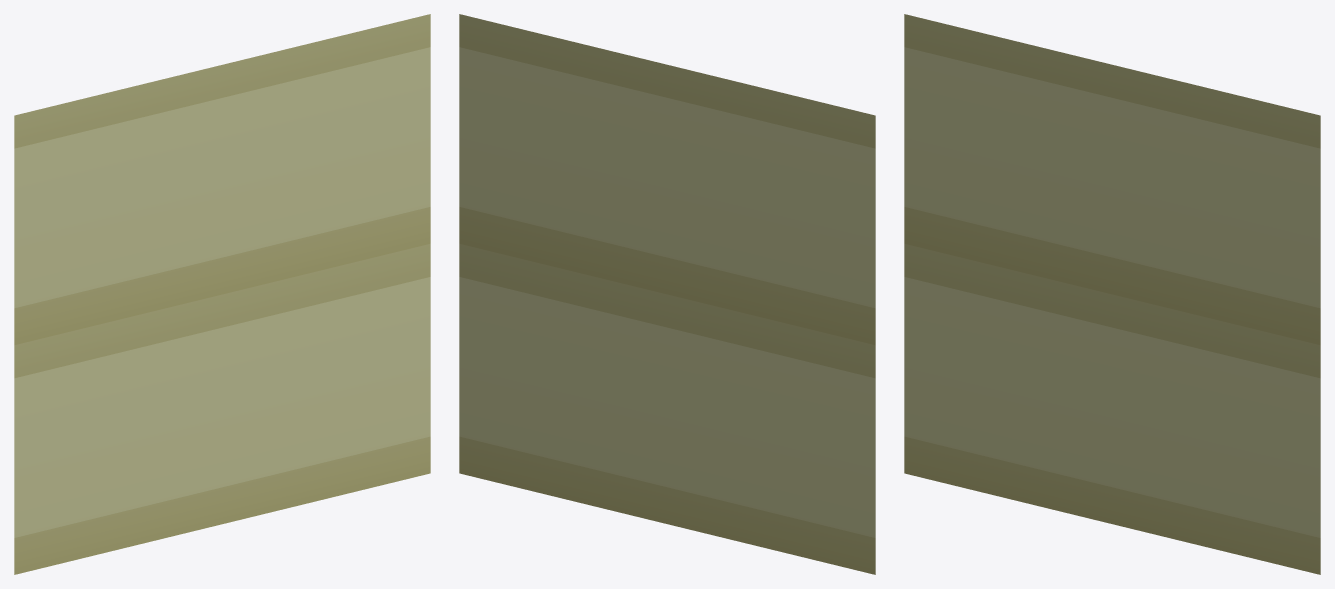
Rendered from SM_Rich_Facade_04.fbx.
3 renders of one model, left to right at view 1: azimuth 30°, elevation 25°; view 2: azimuth 150°, elevation 25°; view 3: azimuth 330°, elevation 25°, orthographic.
Visible parts, largest first — view 1: SM_Rich_Facade_04; view 2: SM_Rich_Facade_04; view 3: SM_Rich_Facade_04.
Part boxes in pixels (bbox=[...]): SM_Rich_Facade_04: bbox=[14, 14, 430, 574]; SM_Rich_Facade_04: bbox=[459, 14, 875, 574]; SM_Rich_Facade_04: bbox=[904, 14, 1320, 574].
Size of the model in its own units: 6 by 6.33 by 0.
